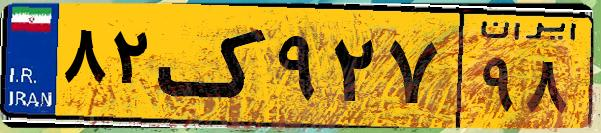2: (330, 28, 385, 110), (110, 28, 158, 98)
7: (385, 28, 445, 110)
8: (57, 26, 110, 100), (525, 38, 570, 115)
9: (270, 28, 330, 110), (475, 38, 525, 113)
ک: (158, 12, 270, 120)
